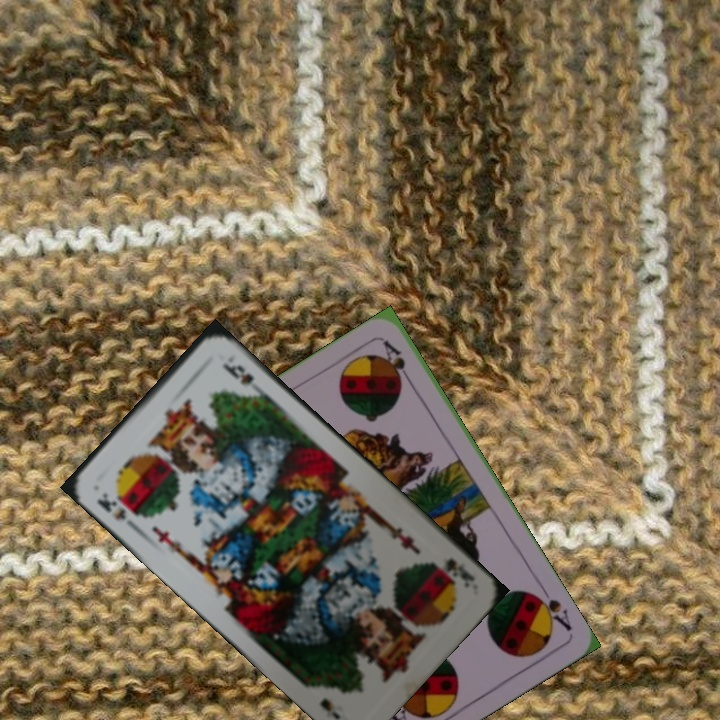SA: (528, 581, 575, 634)
SK: (93, 488, 140, 532), (428, 554, 478, 591)
